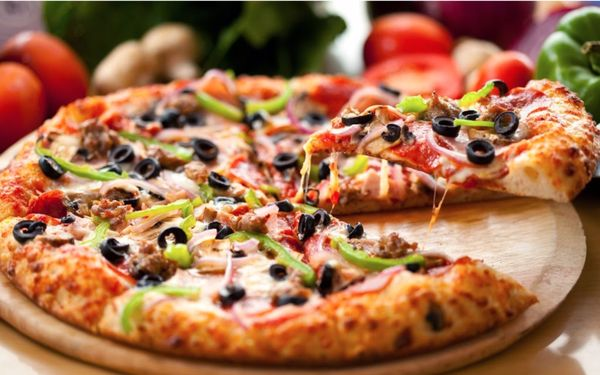sandwich: (2, 64, 595, 363), (297, 80, 600, 212)
